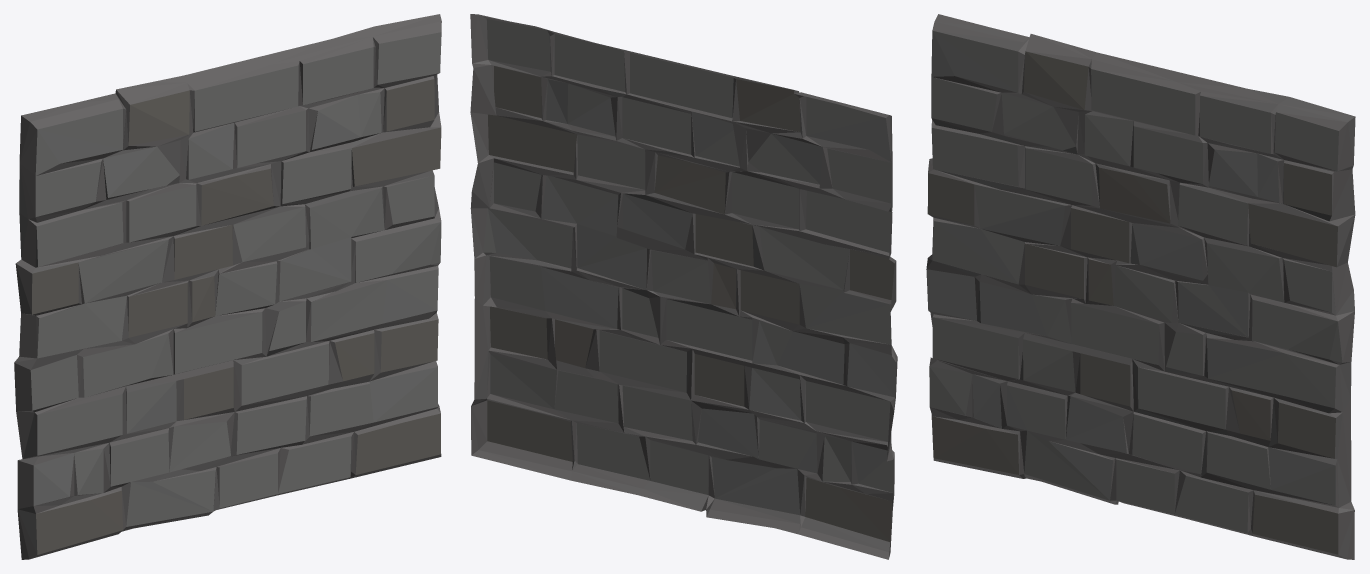
The model's file is SM_Env_Wall_Culled_01_Alt.FBX.
3 views of the same model, side by side, from view 1: azimuth 30°, elevation 25°; view 2: azimuth 150°, elevation 25°; view 3: azimuth 330°, elevation 25° (orthographic).
Visible parts, largest first — view 1: SM_Env_Wall_Culled_01_Alt; view 2: SM_Env_Wall_Culled_01_Alt; view 3: SM_Env_Wall_Culled_01_Alt.
Boxes of the visible parts, left/top/right/bottom form: SM_Env_Wall_Culled_01_Alt: left=14, top=14, right=441, bottom=559; SM_Env_Wall_Culled_01_Alt: left=470, top=14, right=897, bottom=559; SM_Env_Wall_Culled_01_Alt: left=926, top=14, right=1355, bottom=559.
Bounding box in the file's own units: 527 × 24.42 × 530.
